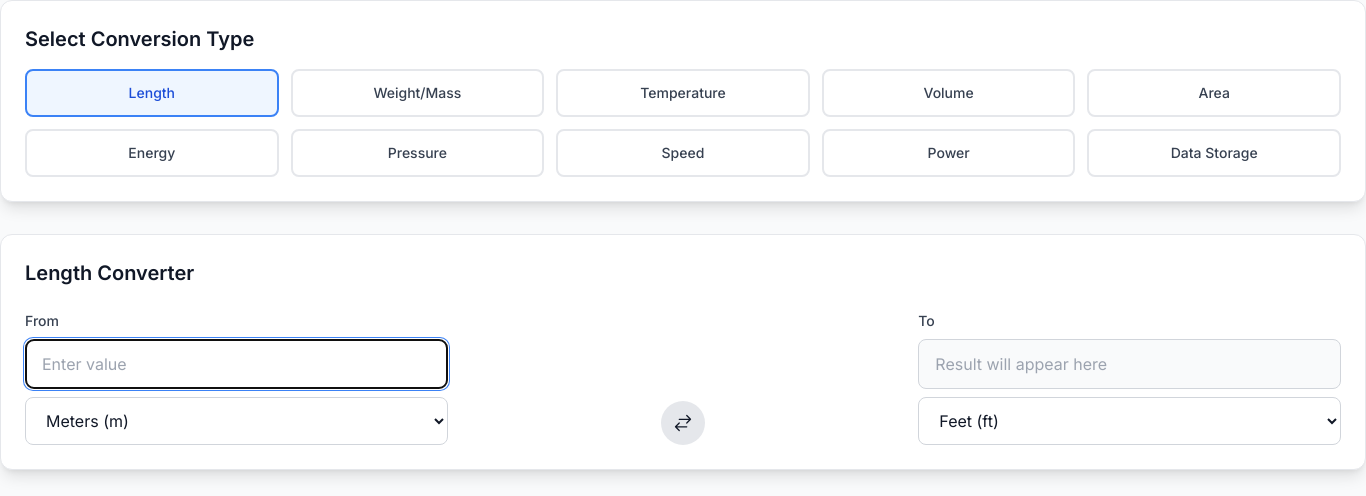
Test case: UnitConverter Component › switches between conversion categories
Click on Weight/Mass category
Click the button "Weight/Mass" at coordinates (417, 93), box [291, 69, 544, 117]
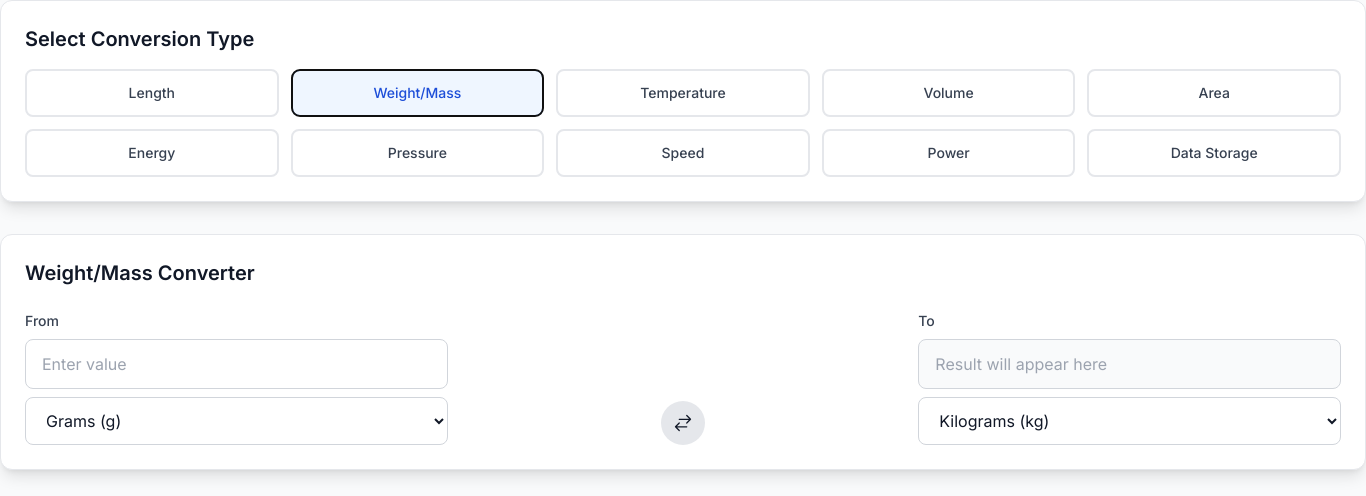
Expected: the heading "Weight/Mass Converter" is shown, [25, 261, 255, 285]
